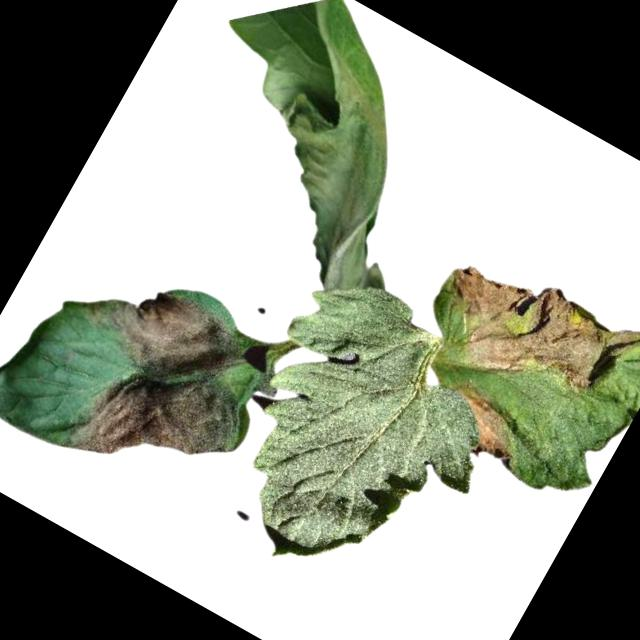Late_blight: (138, 1, 482, 303), (16, 256, 282, 522), (415, 238, 640, 438), (434, 384, 531, 470)
healthy: (185, 258, 534, 627)
